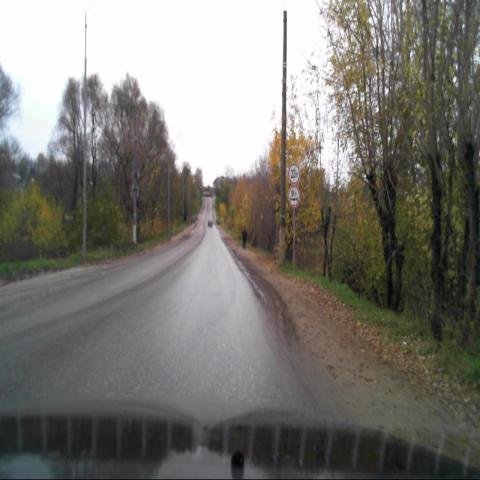3_11: (288, 185, 300, 208), (288, 163, 300, 185)
